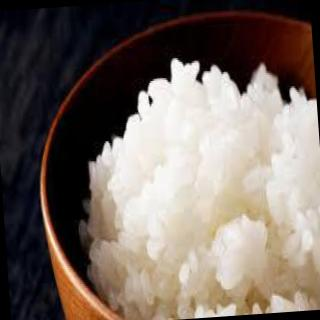Nasi: (66, 45, 320, 320)
